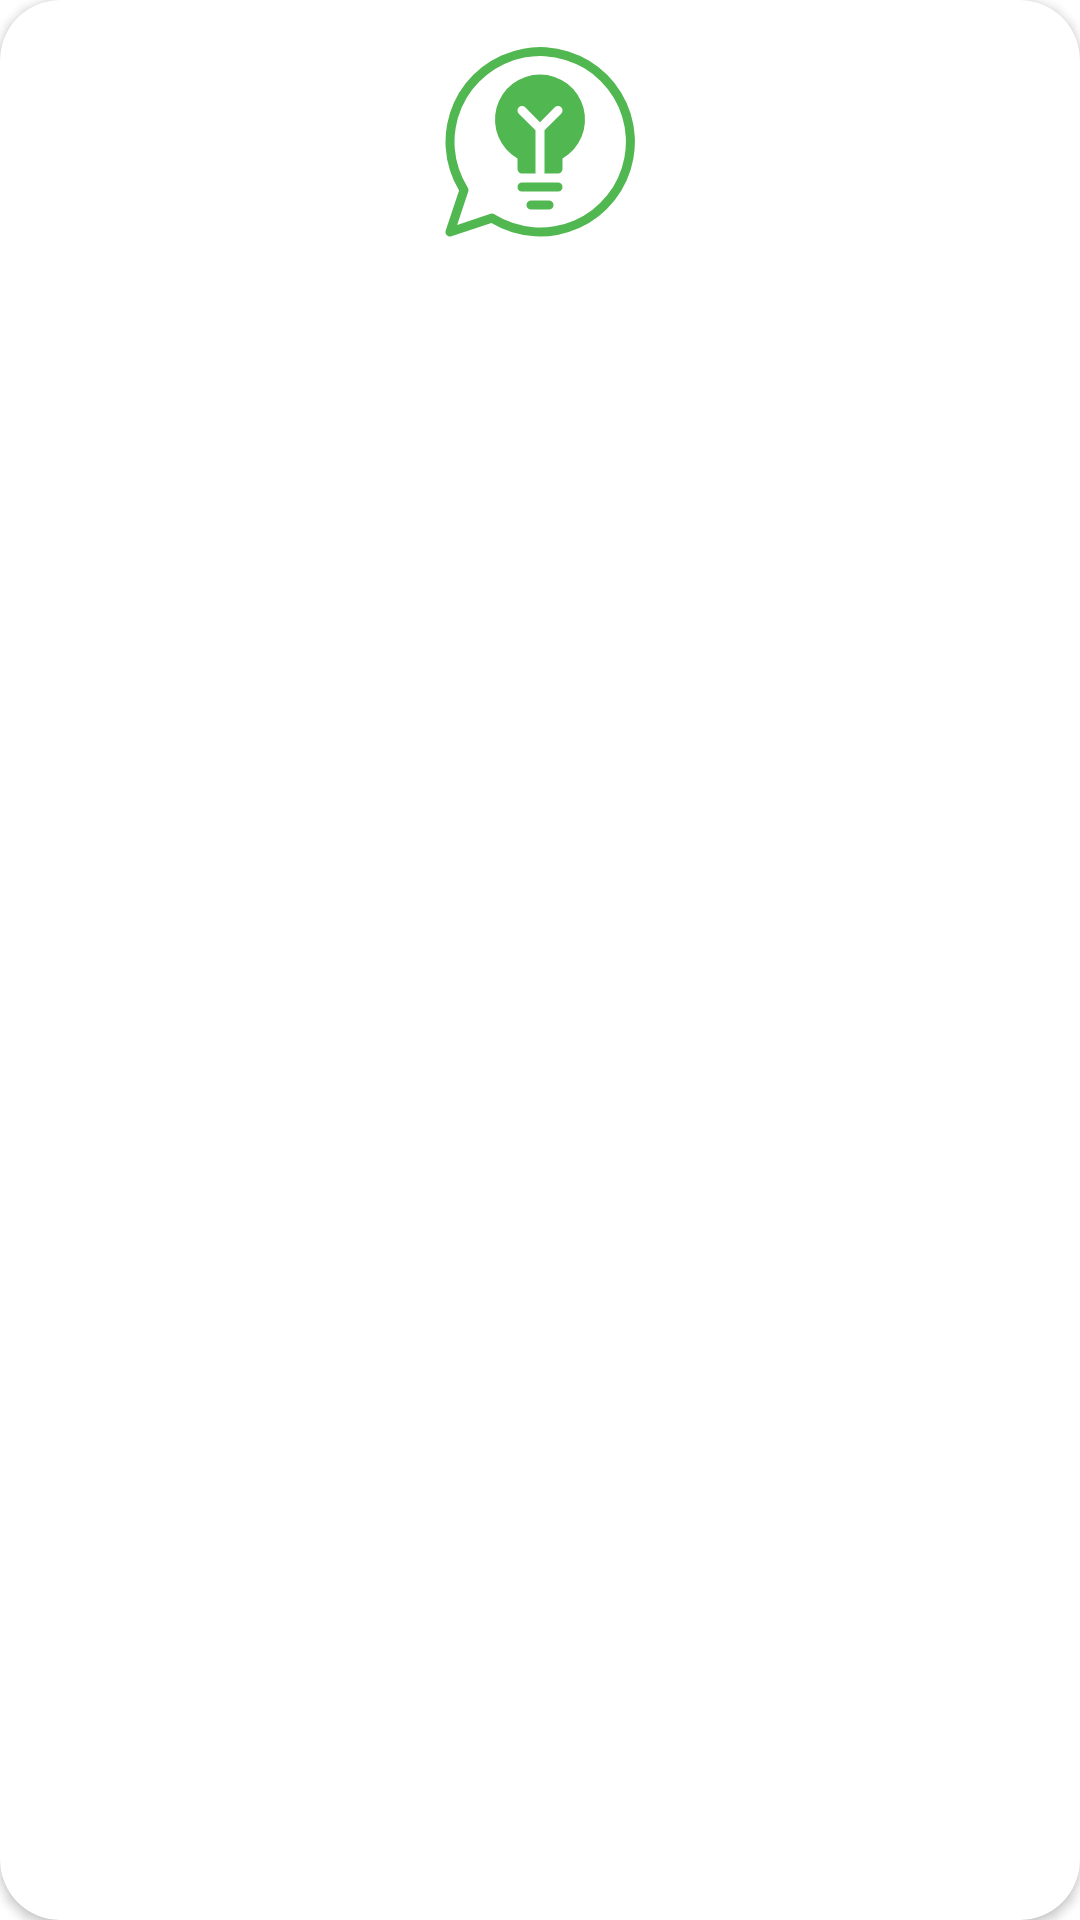

Where icons sit on this 1080 × 1920 app screen, as (x1, y1, x2, y2):
advice: (445, 47, 635, 237)
